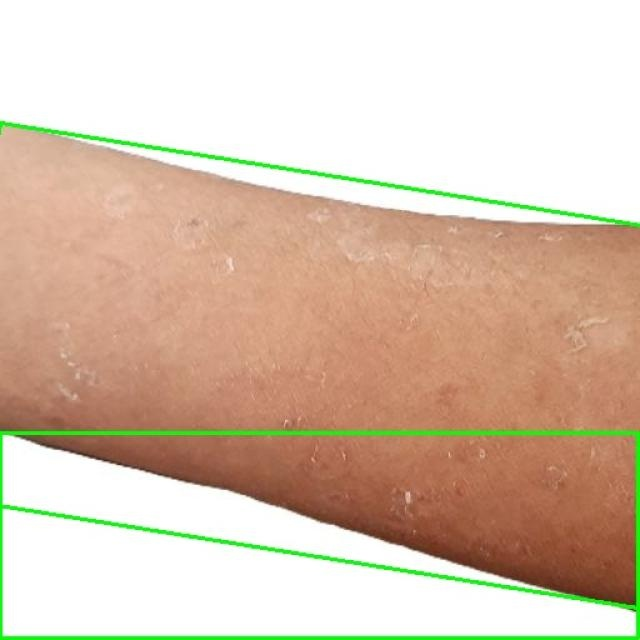Tinea Corporis: (0, 123, 640, 608), (0, 434, 639, 639)
